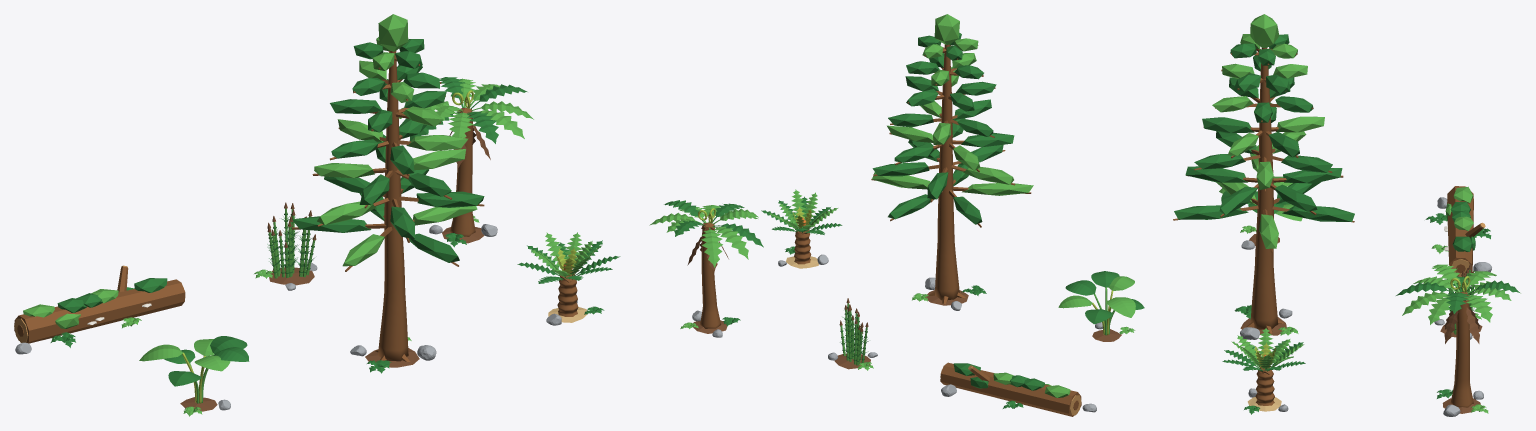
File: prehistoric-plants-set.glb
3 views of the same model, side by side, from view 1: azimuth 30°, elevation 25°; view 2: azimuth 150°, elevation 25°; view 3: azimuth 270°, elevation 25° (orthographic). The views are drawn at different scales.
Visible parts, largest first — view 1: Conifer, MossyLog, TreeFern, Cycad, GiantLeaves, Horsetails; view 2: Conifer, TreeFern, MossyLog, GiantLeaves, Cycad, Horsetails; view 3: Conifer, TreeFern, MossyLog, Cycad, GiantLeaves, Horsetails.
Part boxes in pixels (<box>): Conifer: <box>292,14,484,373</box>; MossyLog: <box>14,265,185,354</box>; TreeFern: <box>398,77,533,247</box>; Cycad: <box>517,232,620,325</box>; GiantLeaves: <box>139,336,249,416</box>; Horsetails: <box>254,202,317,290</box>; Conifer: <box>871,14,1033,310</box>; TreeFern: <box>649,200,763,337</box>; MossyLog: <box>940,362,1096,416</box>; GiantLeaves: <box>1058,271,1144,341</box>; Cycad: <box>761,189,842,268</box>; Horsetails: <box>828,298,877,370</box>; Conifer: <box>1173,14,1354,339</box>; TreeFern: <box>1396,264,1520,416</box>; MossyLog: <box>1425,186,1491,276</box>; Cycad: <box>1222,328,1305,414</box>; GiantLeaves: <box>1219,176,1302,249</box>; Horsetails: <box>1434,264,1482,339</box>.
Size of the model in its own units: 66.03 by 41.73 by 42.26.
